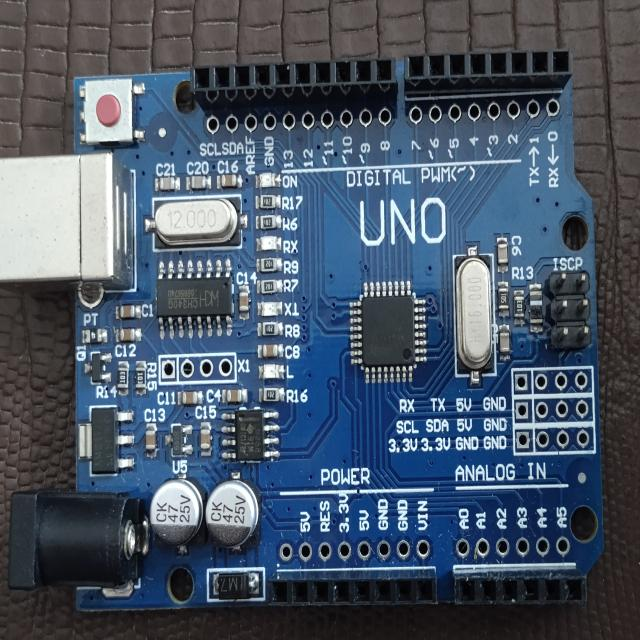arduino: (0, 39, 605, 640)
